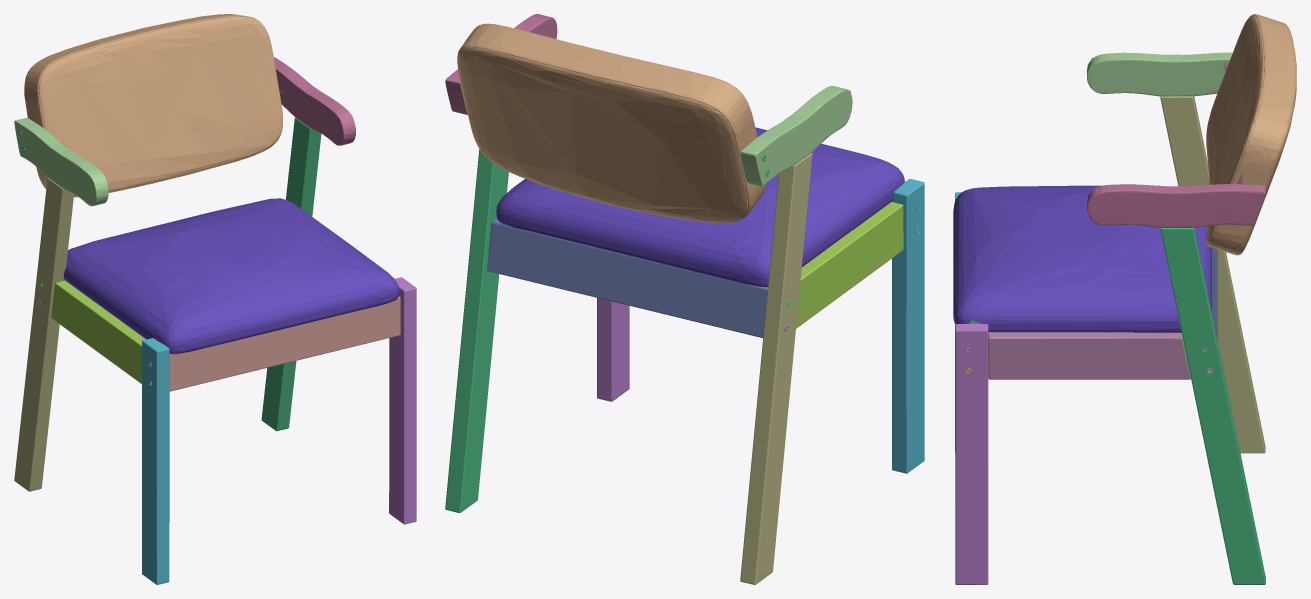
3 views of the same model, side by side, from view 1: azimuth 30°, elevation 25°; view 2: azimuth 150°, elevation 25°; view 3: azimuth 270°, elevation 25° (orthographic). The views are drawn at different scales.
Parts seen in each view (by area): view 1: world; view 2: world; view 3: world.
Part boxes in pixels (<box>): world: <box>14,14,416,584</box>; world: <box>445,14,924,584</box>; world: <box>953,14,1296,584</box>.
Size of the model in its own units: 0.6583 by 1 by 0.6861.
